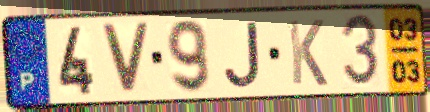3: (338, 11, 382, 91)
4: (56, 24, 97, 98)
9: (163, 18, 213, 96)
J: (222, 19, 263, 90)
K: (285, 17, 330, 88)
V: (98, 22, 153, 97)
